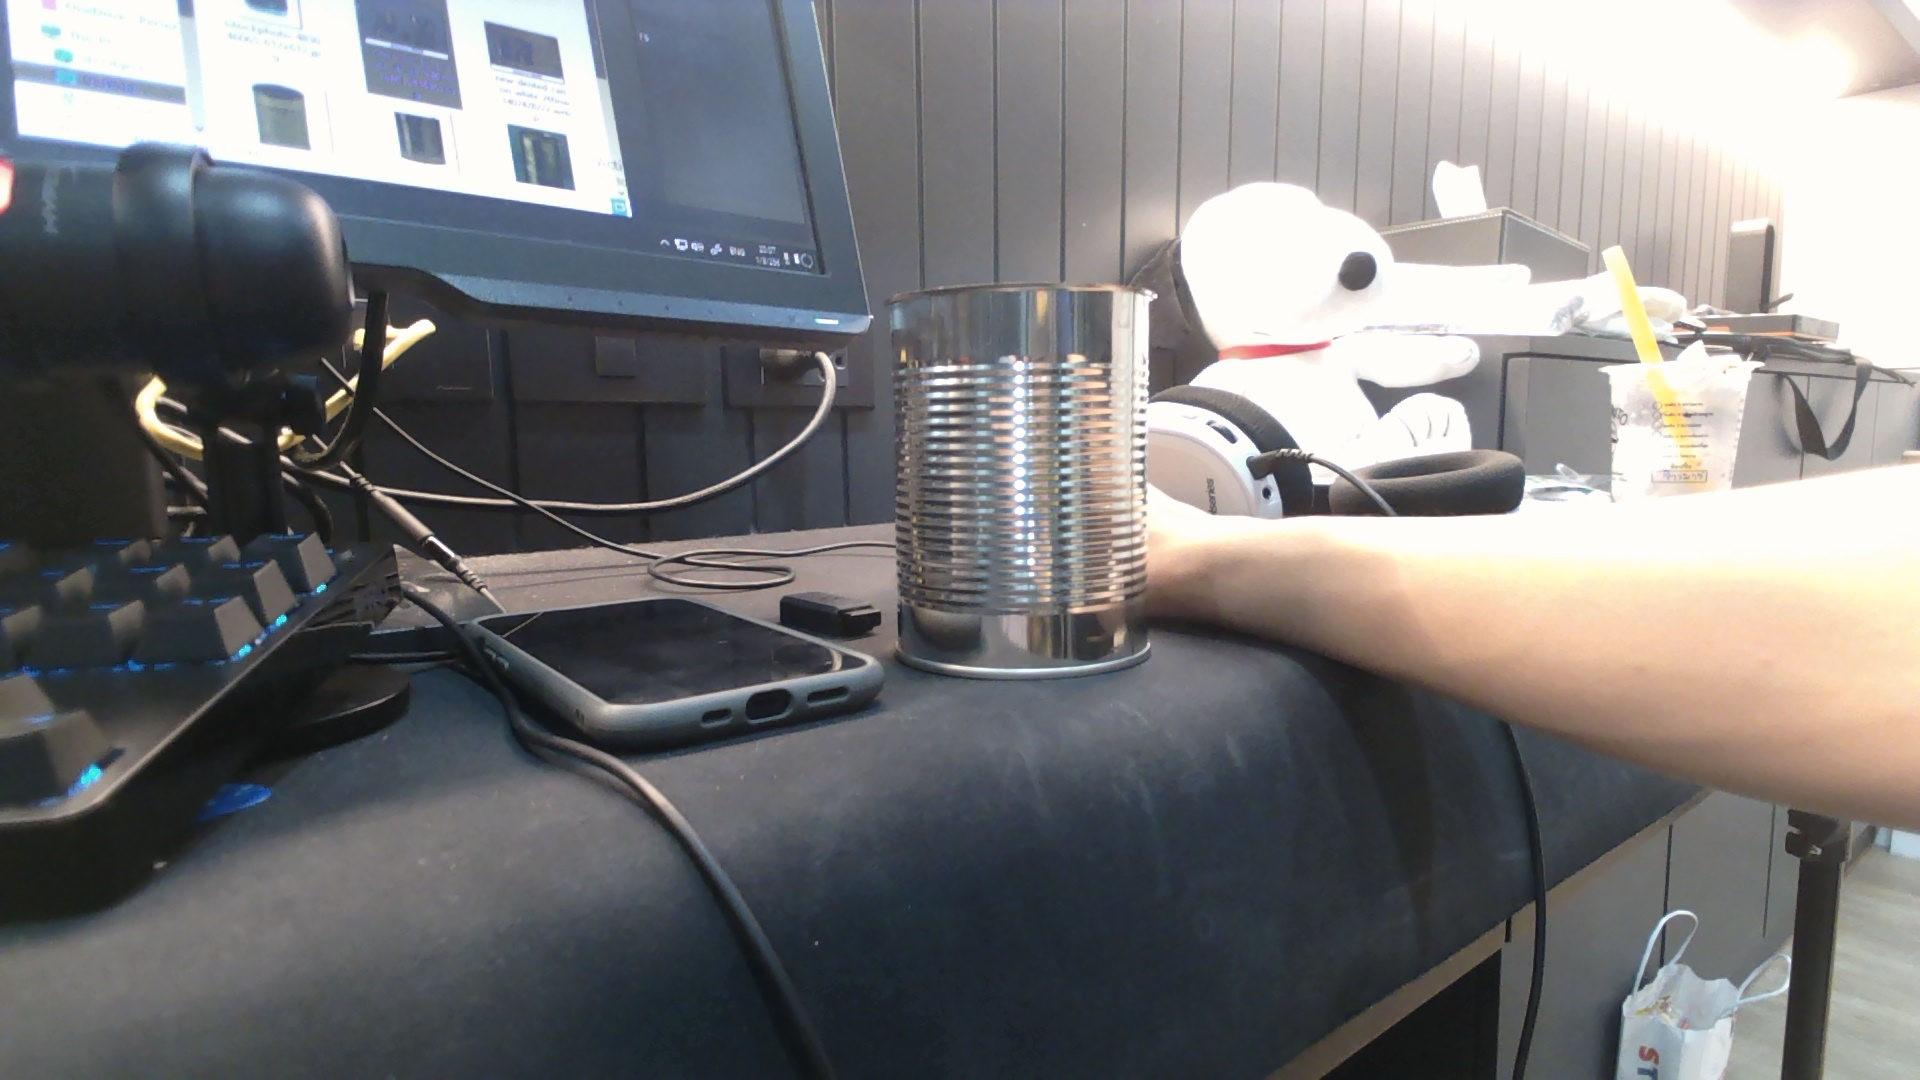metal: (890, 286, 1149, 679)
